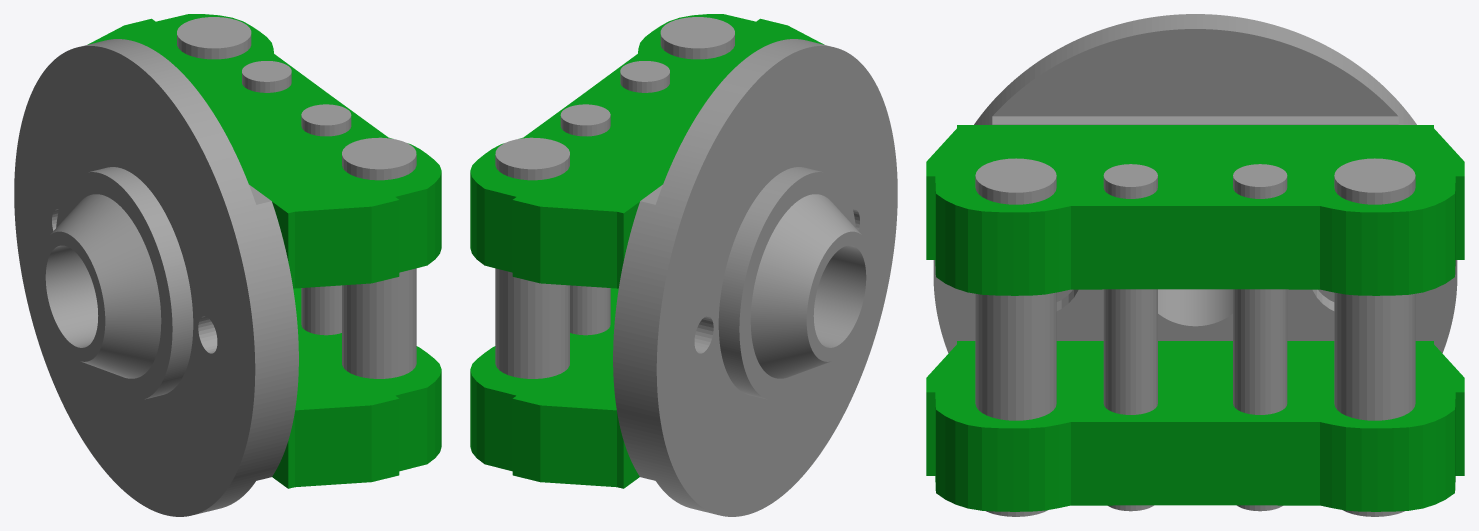
Rendered from BaseGripper.dae.
3 views of the same model, side by side, from view 1: azimuth 30°, elevation 25°; view 2: azimuth 150°, elevation 25°; view 3: azimuth 270°, elevation 25° (orthographic). The views are drawn at different scales.
Visible parts, largest first — view 1: Claw_Holder_Mounting-Plate, Claw_Holder_Part, Claw_Holder_B_Cut_Claw-Holder_Rim, Claw_Holder_B_Cut_Claw-Holder_Center; view 2: Claw_Holder_Mounting-Plate, Claw_Holder_Part, Claw_Holder_B_Cut_Claw-Holder_Rim, Claw_Holder_B_Cut_Claw-Holder_Center; view 3: Claw_Holder_Part, Claw_Holder_Mounting-Plate, Claw_Holder_B_Cut_Claw-Holder_Rim, Claw_Holder_B_Cut_Claw-Holder_Center.
Boxes of the visible parts, x1,y1,x2,y2 form: Claw_Holder_Mounting-Plate: (14, 39, 298, 516); Claw_Holder_Part: (87, 14, 441, 488); Claw_Holder_B_Cut_Claw-Holder_Rim: (177, 17, 416, 378); Claw_Holder_B_Cut_Claw-Holder_Center: (242, 61, 351, 335); Claw_Holder_Mounting-Plate: (613, 39, 897, 516); Claw_Holder_Part: (470, 14, 824, 488); Claw_Holder_B_Cut_Claw-Holder_Rim: (495, 17, 734, 378); Claw_Holder_B_Cut_Claw-Holder_Center: (560, 61, 669, 335); Claw_Holder_Part: (926, 125, 1464, 511); Claw_Holder_Mounting-Plate: (933, 14, 1457, 353); Claw_Holder_B_Cut_Claw-Holder_Rim: (975, 158, 1415, 516); Claw_Holder_B_Cut_Claw-Holder_Center: (1103, 164, 1287, 511).
Bounding box in the file's own units: 0.0743 × 0.1174 × 0.1143.
